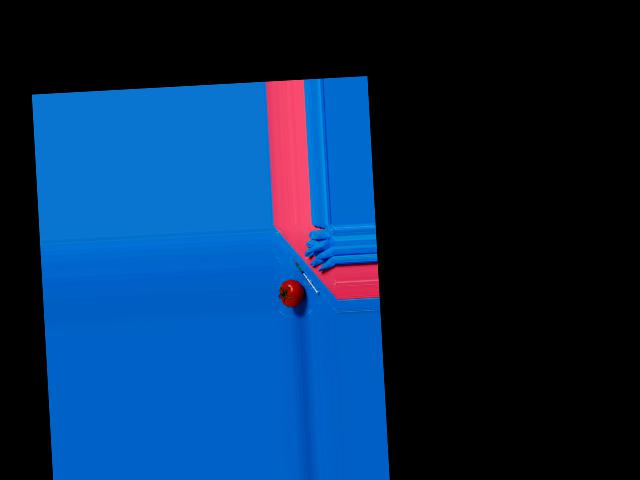tomato: (279, 278, 305, 307)
